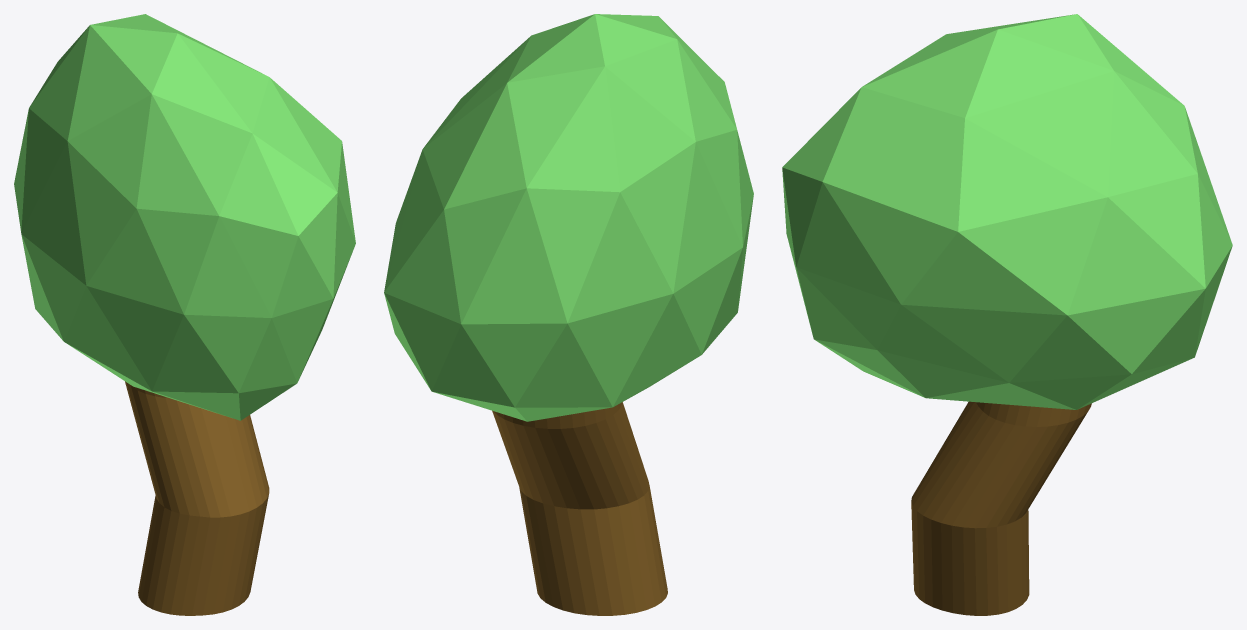
File: tree-highlight.glb
3 renders of one model, left to right at view 1: azimuth 30°, elevation 25°; view 2: azimuth 150°, elevation 25°; view 3: azimuth 270°, elevation 25°, orthographic. The views are drawn at different scales.
Parts seen in each view (by area): view 1: Icosphere, Cylinder; view 2: Icosphere, Cylinder; view 3: Icosphere, Cylinder.
Boxes of the visible parts, x1=… form: Icosphere: x1=14, y1=14, x2=355, y2=420; Cylinder: x1=125, y1=381, x2=269, y2=615; Icosphere: x1=384, y1=14, x2=753, y2=421; Cylinder: x1=492, y1=402, x2=667, y2=615; Icosphere: x1=782, y1=14, x2=1232, y2=409; Cylinder: x1=911, y1=401, x2=1091, y2=615.
Bounding box in the file's own units: 0.9286 × 1.83 × 1.34.
